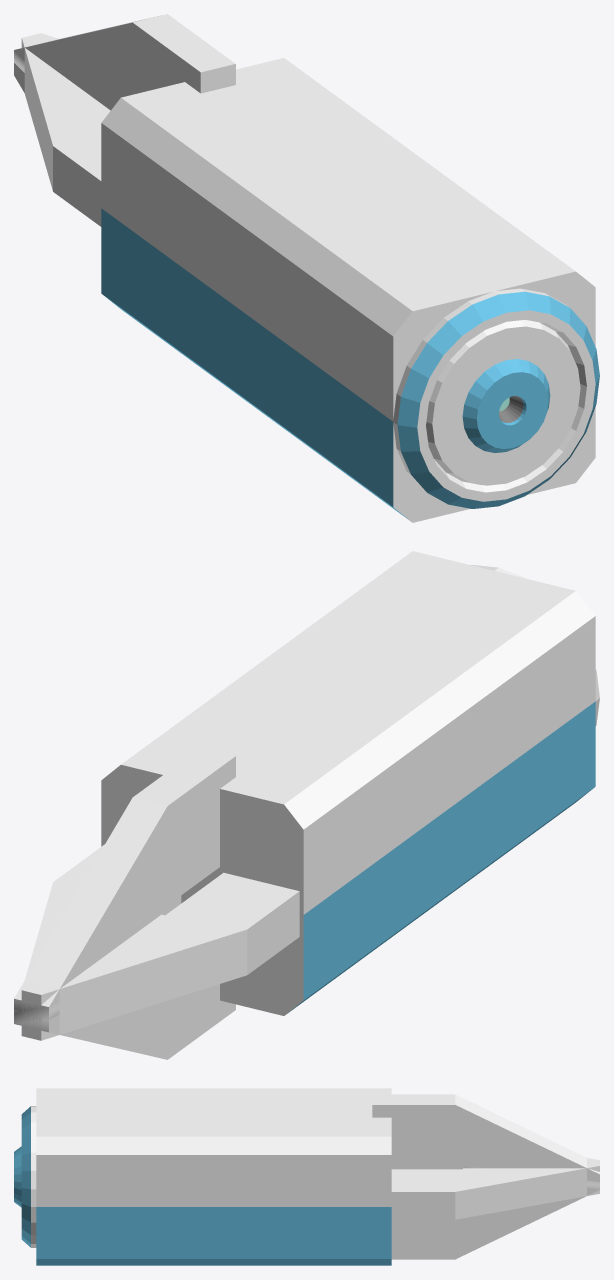
The model's file is missile.gltf.
3 renders of one model, top to bottom at view 1: azimuth 30°, elevation 25°; view 2: azimuth 150°, elevation 25°; view 3: azimuth 270°, elevation 25°, orthographic. The views are drawn at different scales.
Visible parts, largest first — view 1: missile; view 2: missile; view 3: missile.
Part boxes in pixels (<box>): missile: <box>14,14,599,522</box>; missile: <box>14,551,599,1059</box>; missile: <box>14,1088,599,1265</box>.
Size of the model in its own units: 0.4005 by 0.48 by 1.65.
